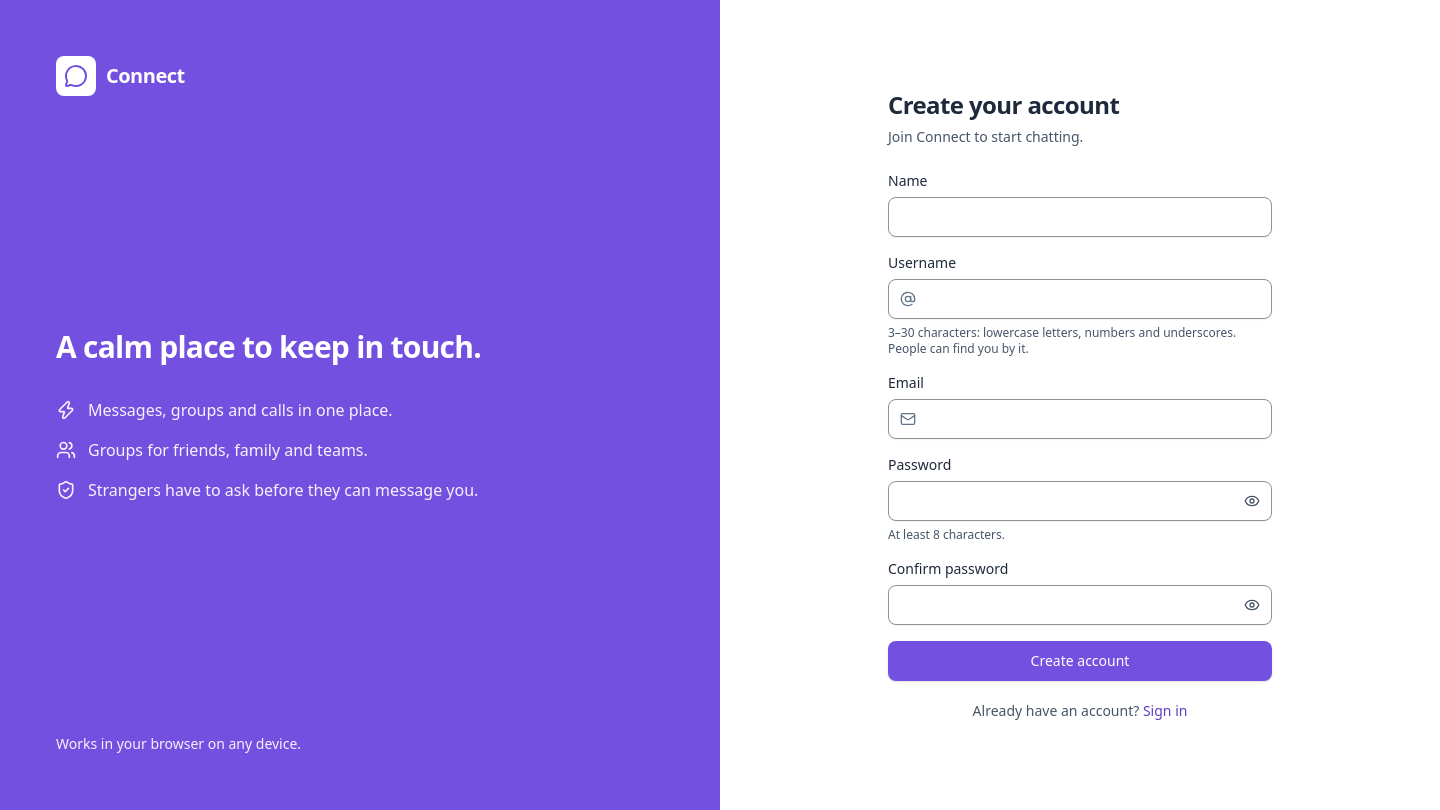
RegisterPage › shows conflicts from the server next to the right fields
Type "Ada Lovelace" into the field labelled "Name" at (1080, 217), box [888,197,1272,237]
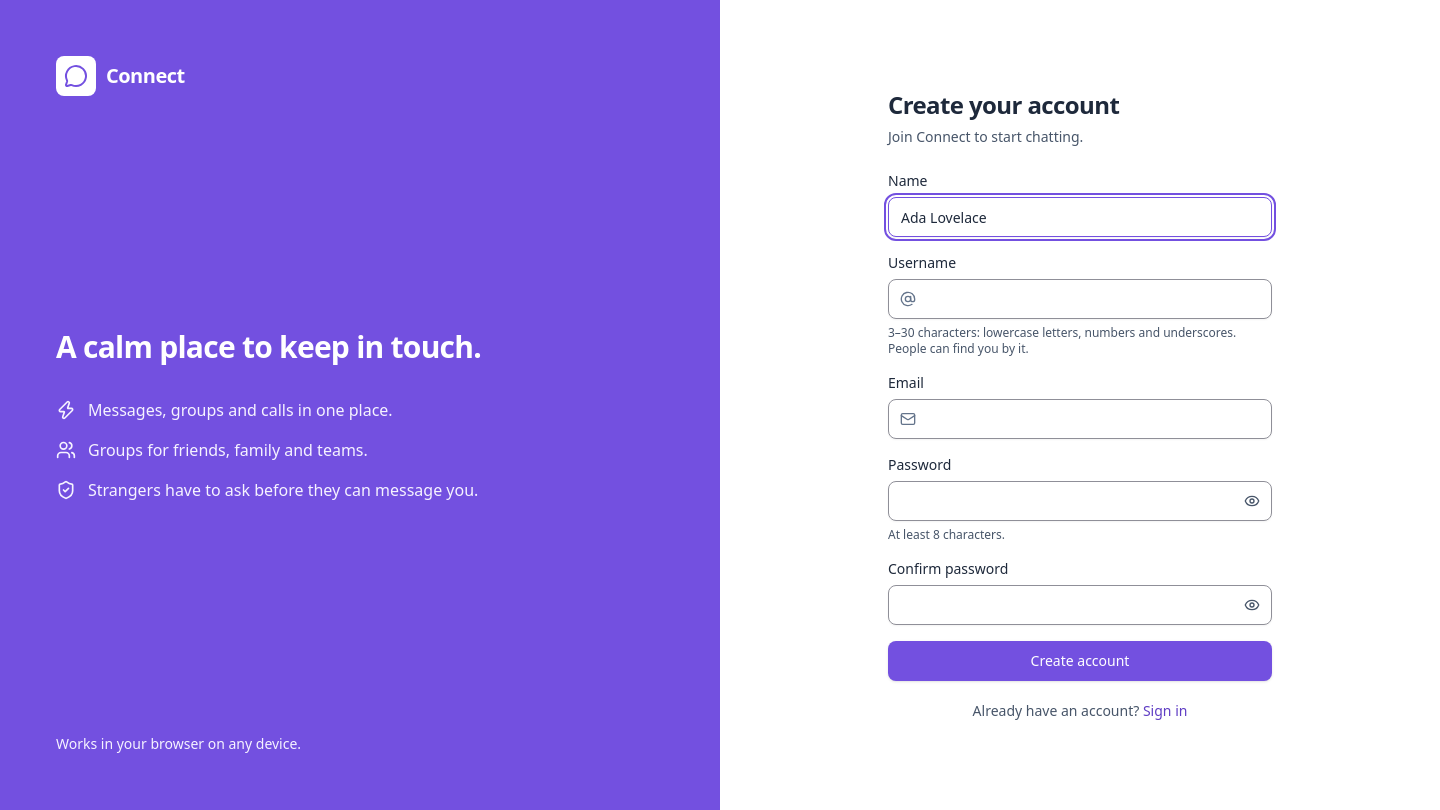
Type "ada" into the field labelled "Username" at (1080, 299), box [888,279,1272,319]
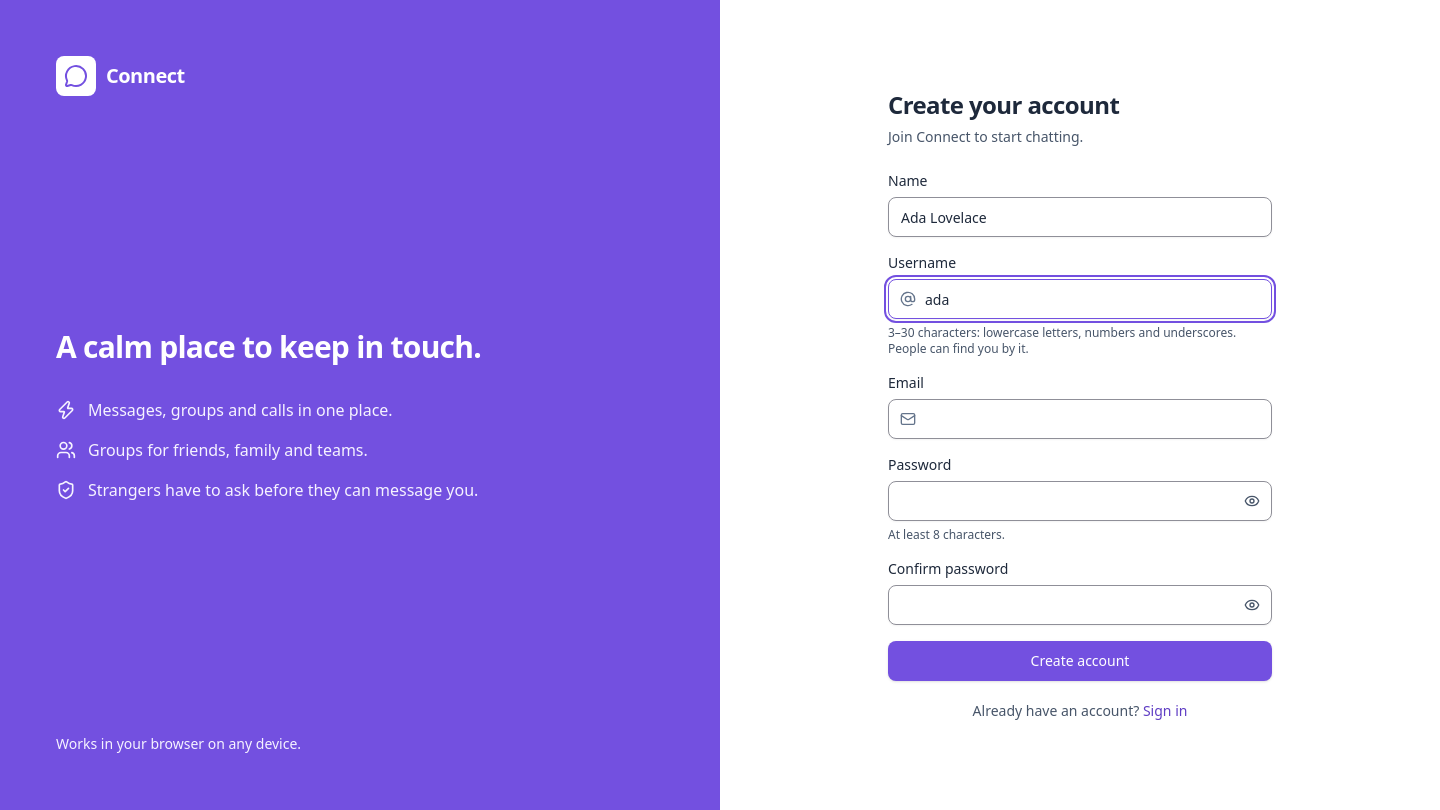
Type "ada@example.com" into the field labelled "Email" at (1080, 419), box [888,399,1272,439]
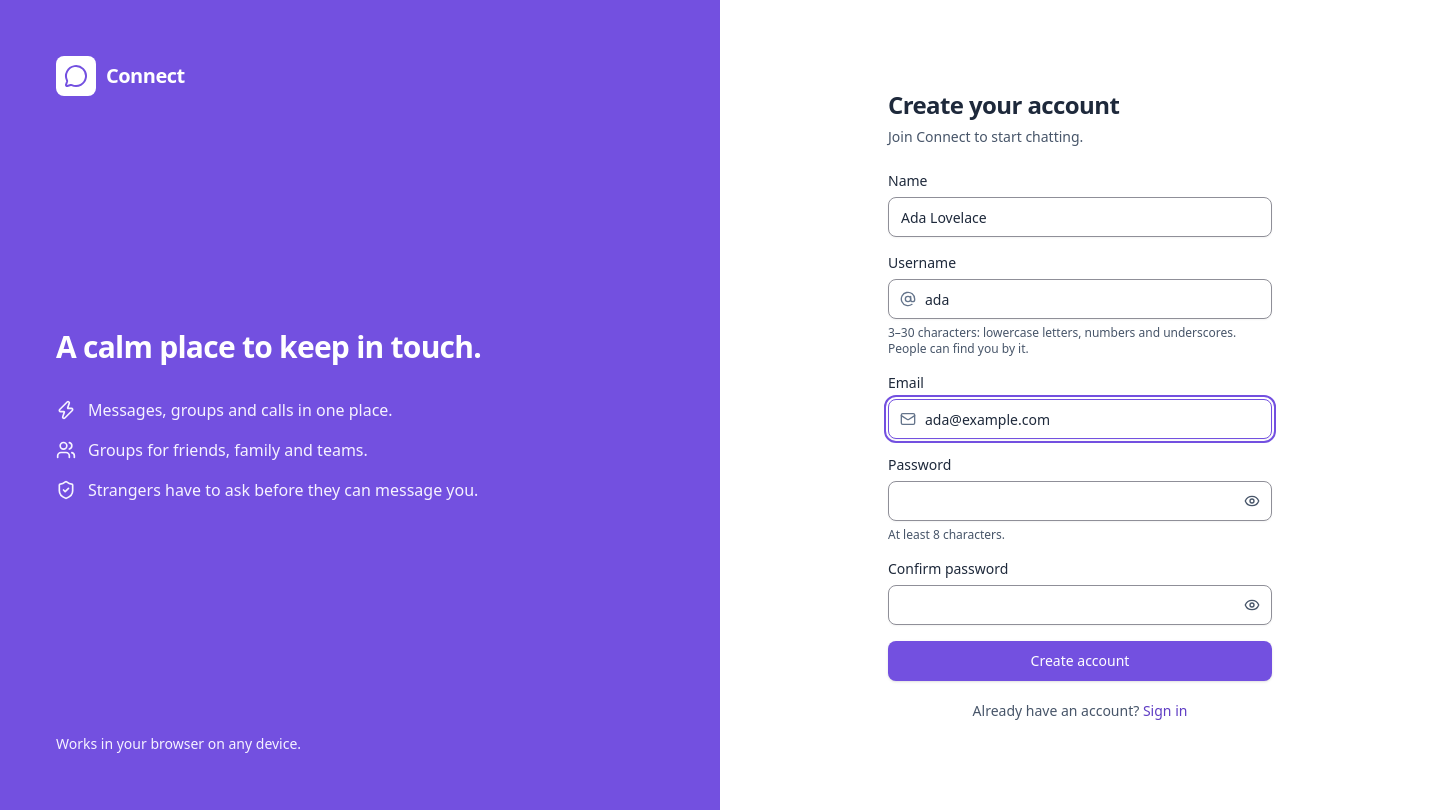
Type "long enough password" into the password field labelled "Password" at (1080, 501), box [888,481,1272,521]
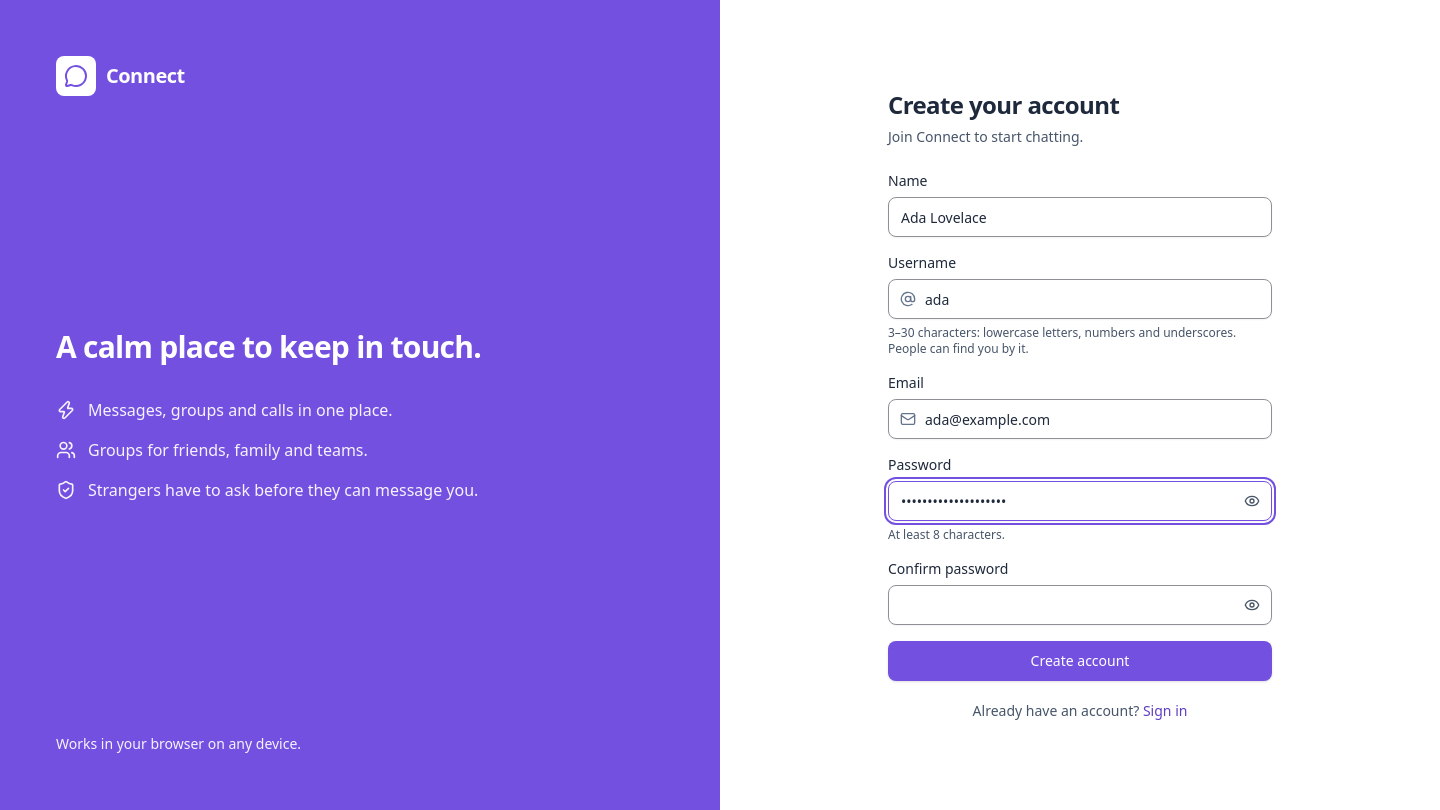
Type "long enough password" into the password field labelled "Confirm password" at (1080, 605), box [888,585,1272,625]
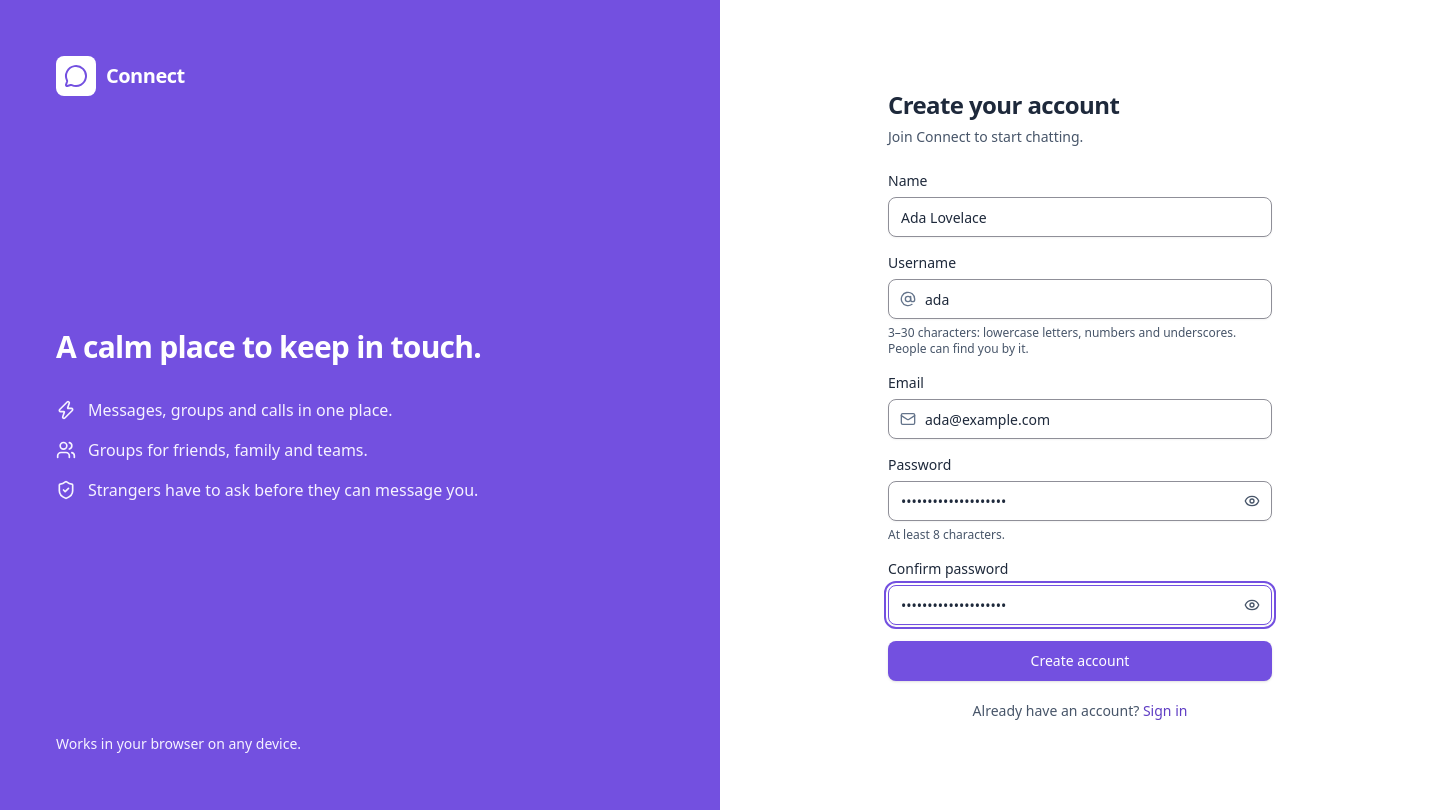
Click the button "Create account" at (1080, 661), box [888,641,1272,681]
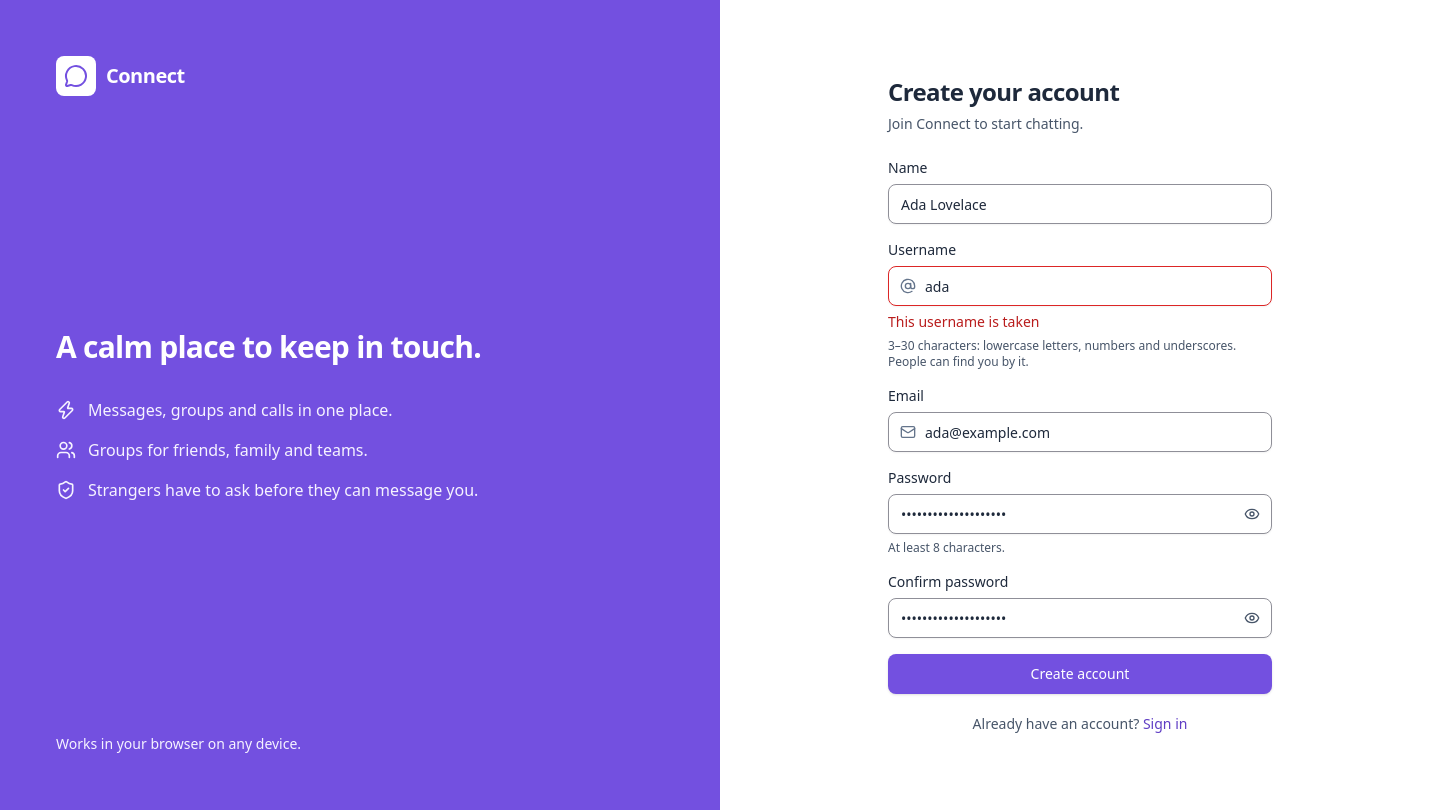
Check: the text "This username is taken" is shown, box [888,312,1040,331]
